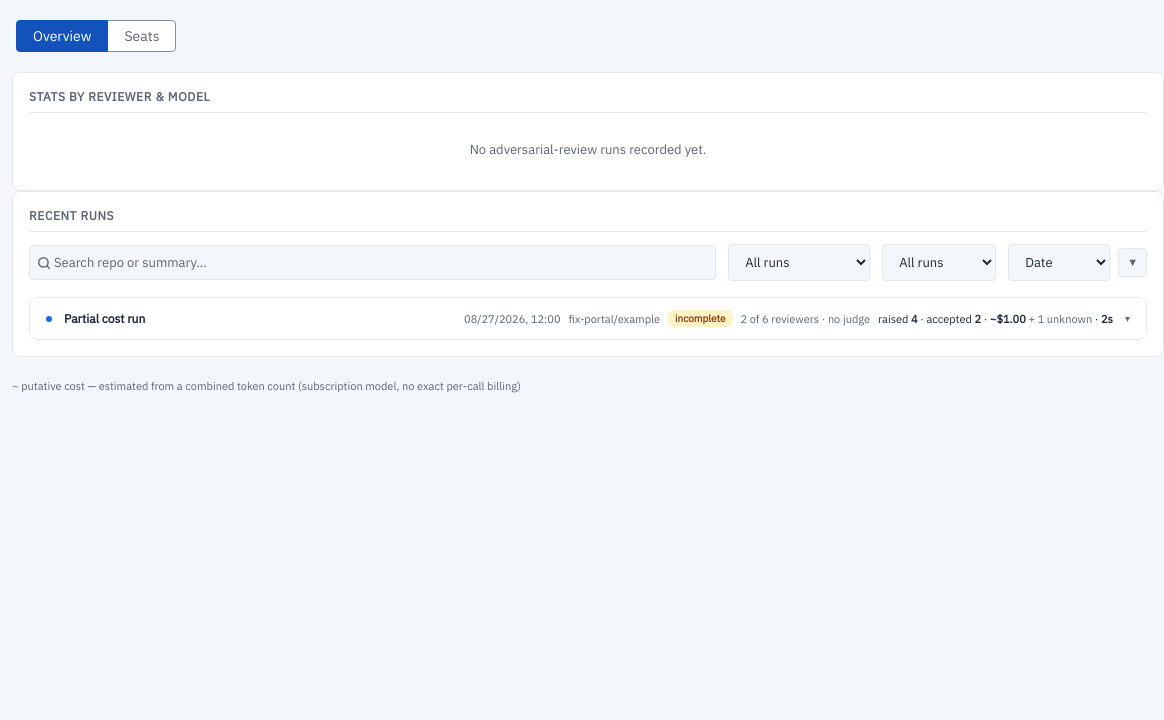
AdversarialReviewPanel runs list unknown cost › an unknown-cost participant renders Unknown and the run total is flagged partial
Click the button "Partial cost run".
click(588, 318)  # box [30, 298, 1146, 339]
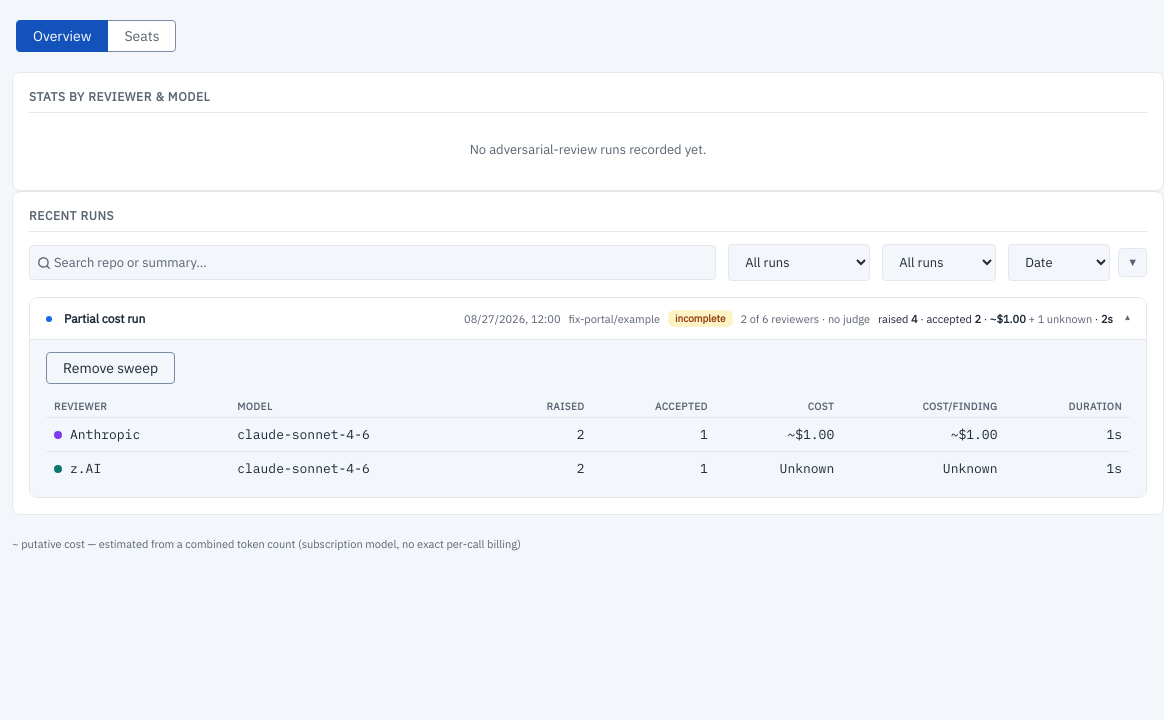
Expected: the text "+ 1 unknown" is shown, [1028, 312, 1092, 326]
Expected: the 1st text "Unknown" is shown, [716, 452, 842, 485]
